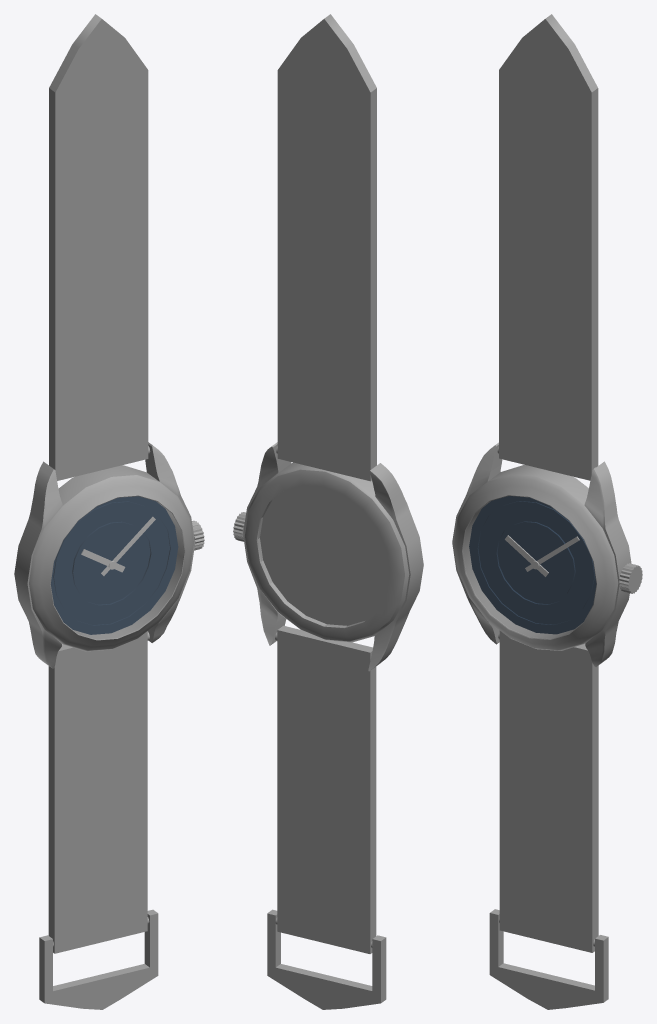
Rendered from Watch.fbx.
3 renders of one model, left to right at view 1: azimuth 30°, elevation 25°; view 2: azimuth 150°, elevation 25°; view 3: azimuth 330°, elevation 25°, orthographic.
Visible parts, largest first — view 1: band1, band2, watchBody, pDisc1, latch; view 2: band1, band2, watchBody, latch; view 3: band1, band2, watchBody, pDisc1, latch, pGear1.
Boxes of the visible parts, box(x1,y1,x2,y2) form: band1: box(49, 14, 148, 480); band2: box(48, 631, 147, 953); watchBody: box(14, 442, 194, 668); pDisc1: box(51, 496, 184, 639); latch: box(39, 909, 158, 1009); band1: box(277, 14, 376, 481); band2: box(277, 625, 376, 953); watchBody: box(243, 442, 423, 671); latch: box(267, 909, 386, 1009); band1: box(499, 14, 598, 480); band2: box(499, 630, 598, 952); watchBody: box(452, 442, 631, 666); pDisc1: box(462, 496, 596, 639); latch: box(489, 909, 608, 1009); pGear1: box(619, 563, 642, 593).
Size of the model in its own units: 3.65 by 19.6 by 0.9623.
